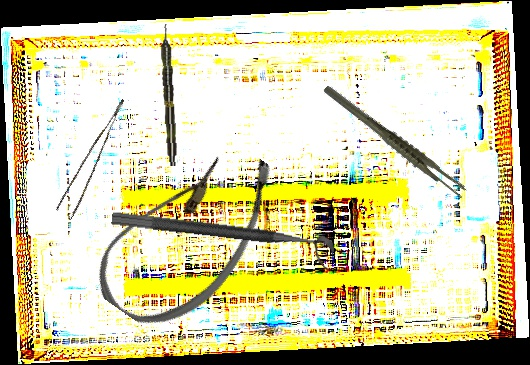Cannula: (81, 116, 295, 350)
Fixation Ring: (108, 210, 336, 272)
Handpiece: (159, 23, 179, 167)
Tissue Forceps: (322, 62, 469, 220), (50, 99, 143, 220)
